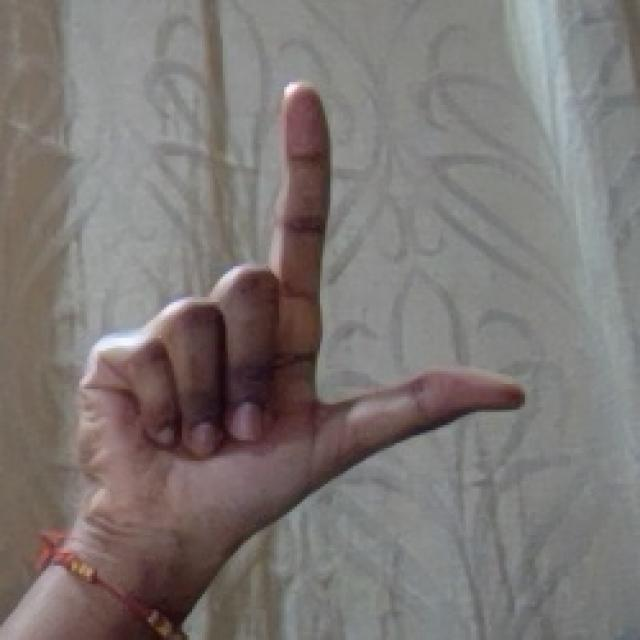Alphabet-L: (72, 68, 529, 550)
